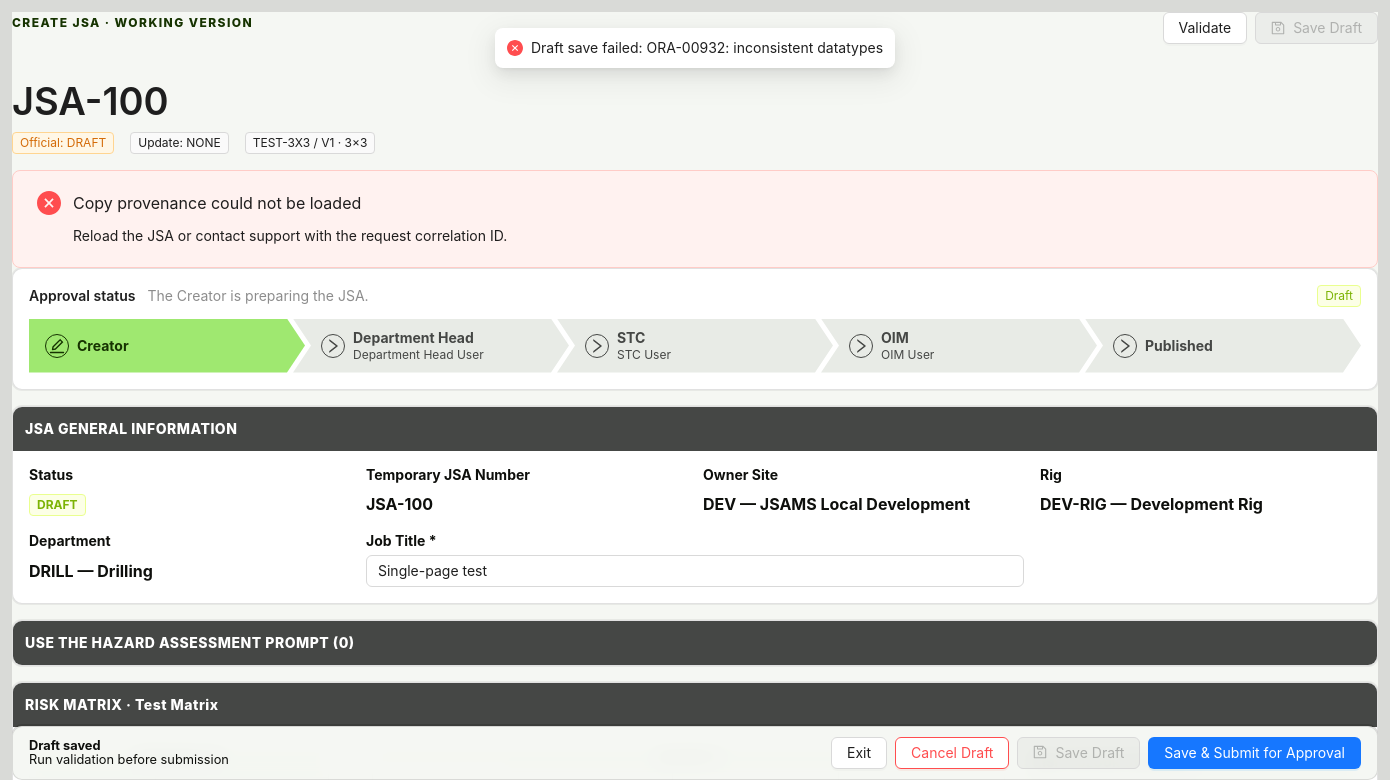
JsaDraftEditor single-page worksheet › saves Header and Content through one aggregate request
The image size is (1390, 780).
Type " updated" into the field showing "Single-page test" at (695,571), box x1=366 y1=555 x2=1024 y2=587
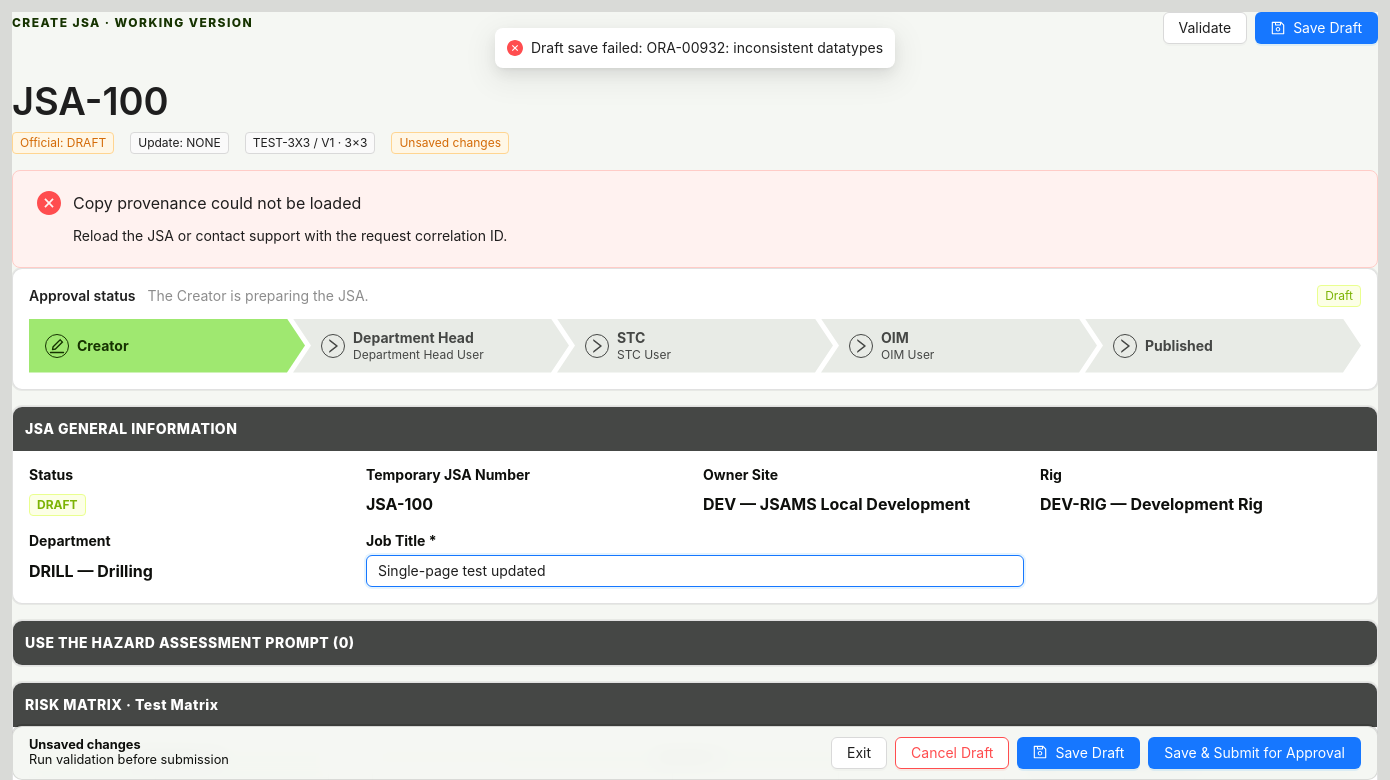
Click the button "Save Draft" in the row of "CREATE JSA · WORKING VERSION" at (1317,28), box x1=1255 y1=12 x2=1378 y2=44
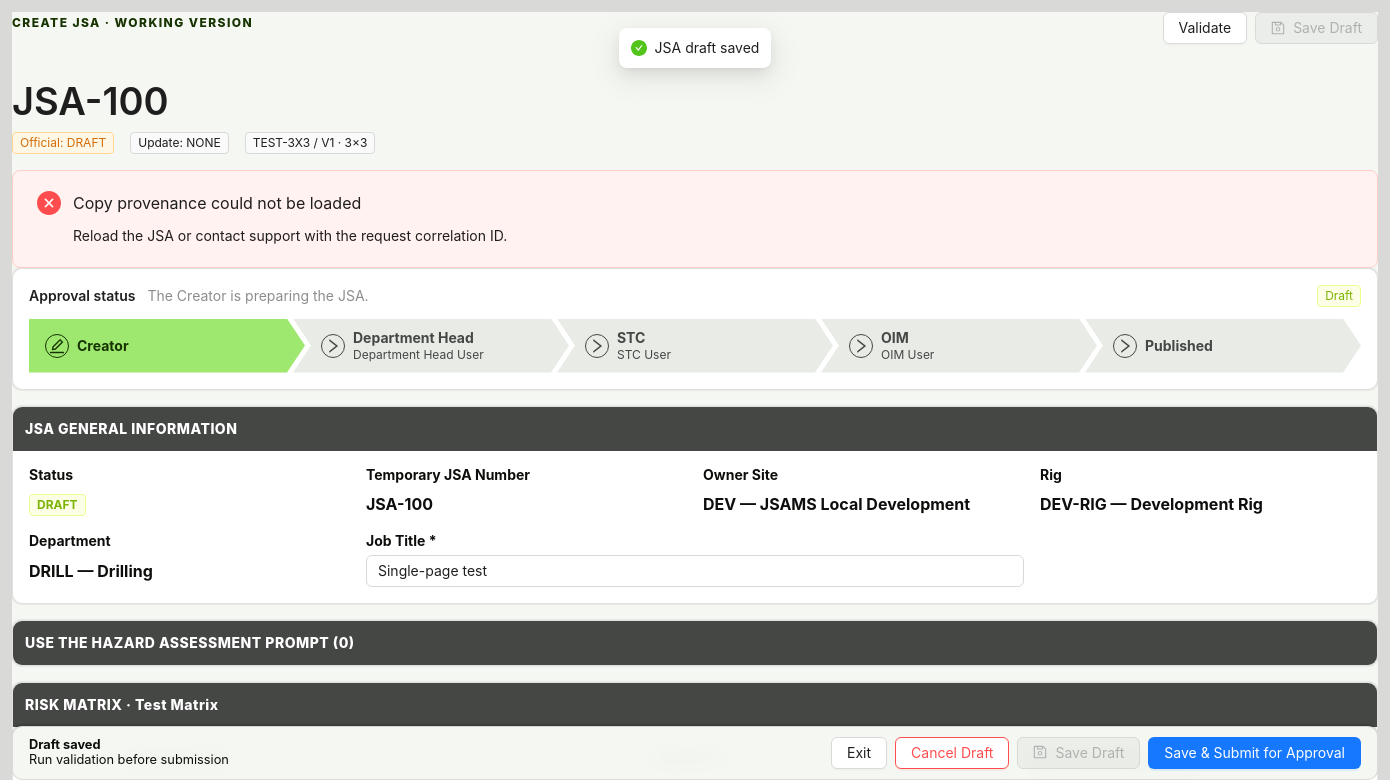
Expected: the text "Draft saved" is shown, x1=29 y1=737 x2=100 y2=752
